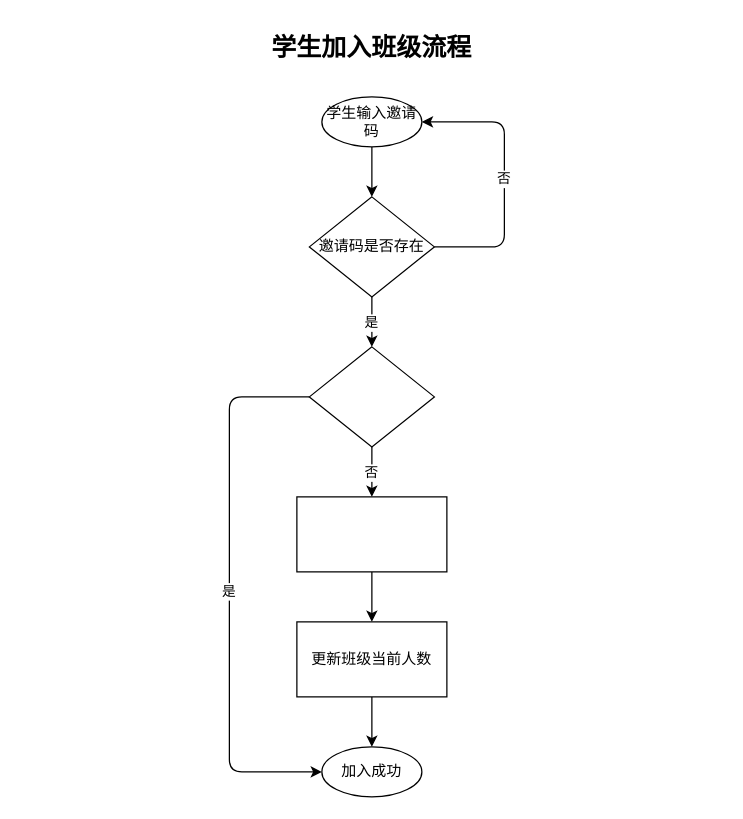
Image size: 743x819. Some labels were removed from this diagram. Each missing label, with the centre of its shape:
插入学生班级关联记录: point (371, 534)
是否已在该班级中: point (371, 396)
